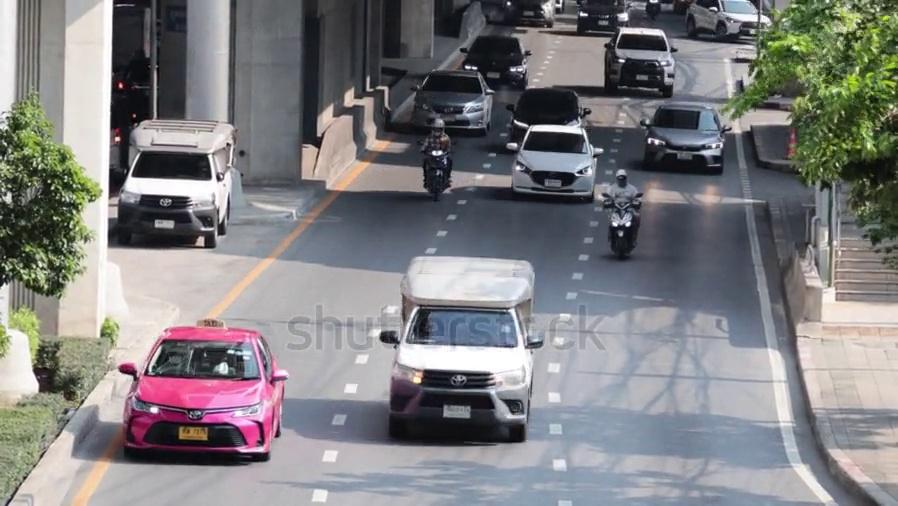rider: (600, 168, 641, 246), (418, 117, 452, 191)
with_helmate: (615, 169, 628, 188), (429, 121, 446, 135)
